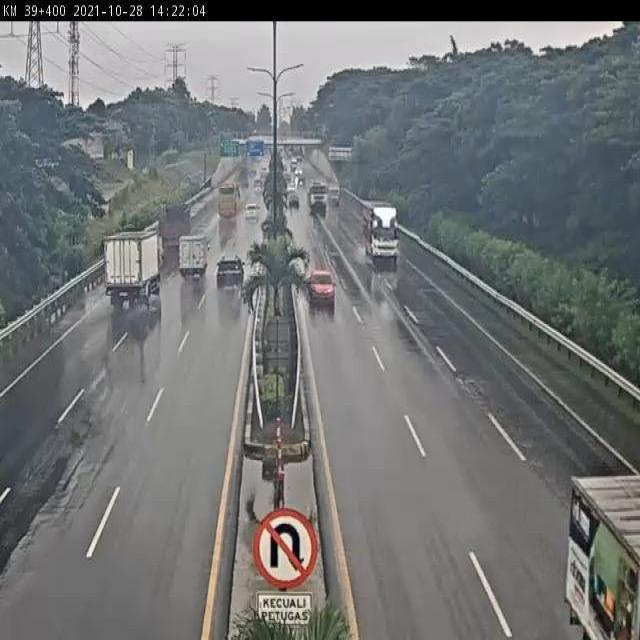big bus: (215, 183, 242, 221)
car: (213, 249, 245, 292), (307, 266, 337, 306), (242, 201, 262, 224)
truck-l-: (103, 231, 161, 308), (360, 204, 401, 263), (157, 206, 191, 253)
truck-s-: (175, 235, 208, 284)
truck-xl-: (306, 178, 329, 214)
